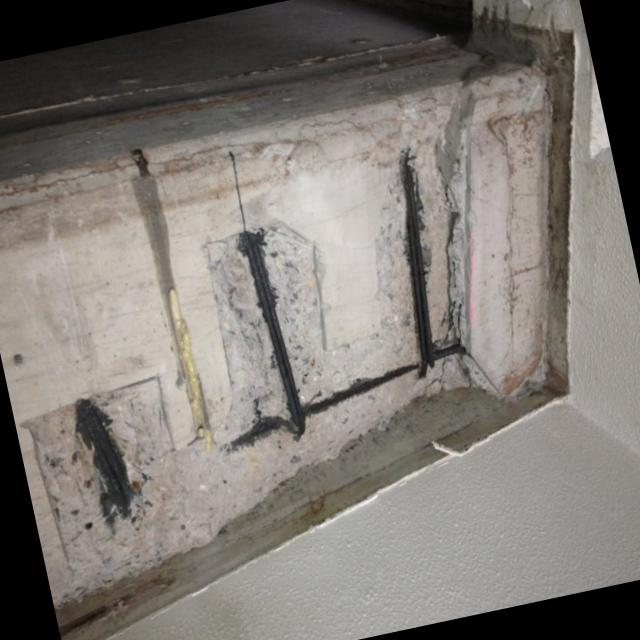spalling: (28, 96, 548, 614)
